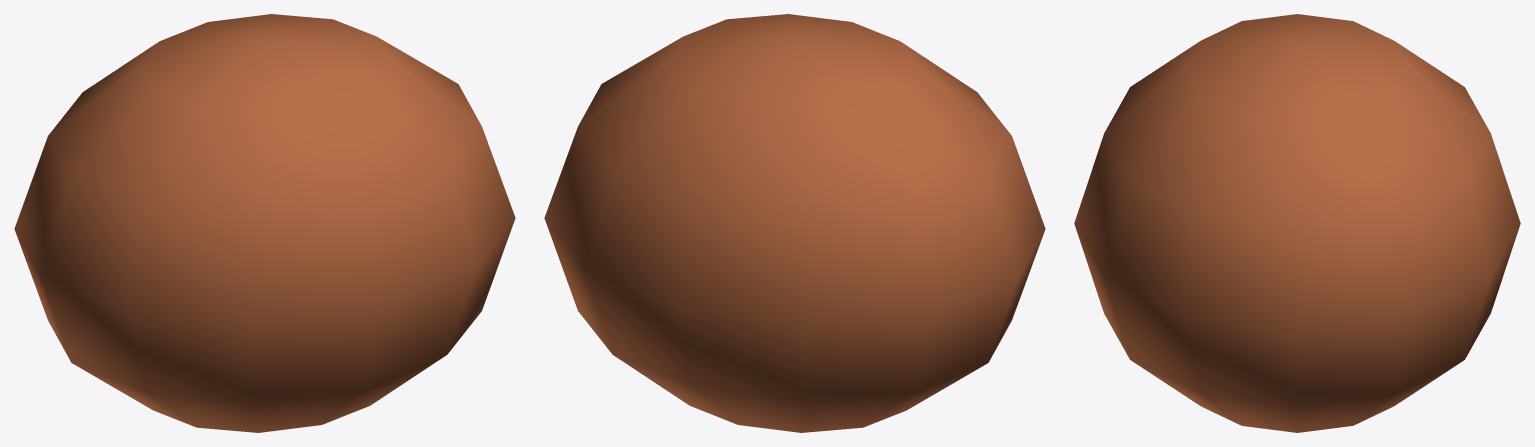
Rendered from ore_clay.glb.
The picture shows the model from 3 angles, left to right: view 1: azimuth 30°, elevation 25°; view 2: azimuth 150°, elevation 25°; view 3: azimuth 270°, elevation 25°; orthographic projection. The views are drawn at different scales.
Size of the model in its own units: 0.26 by 0.205 by 0.23.
